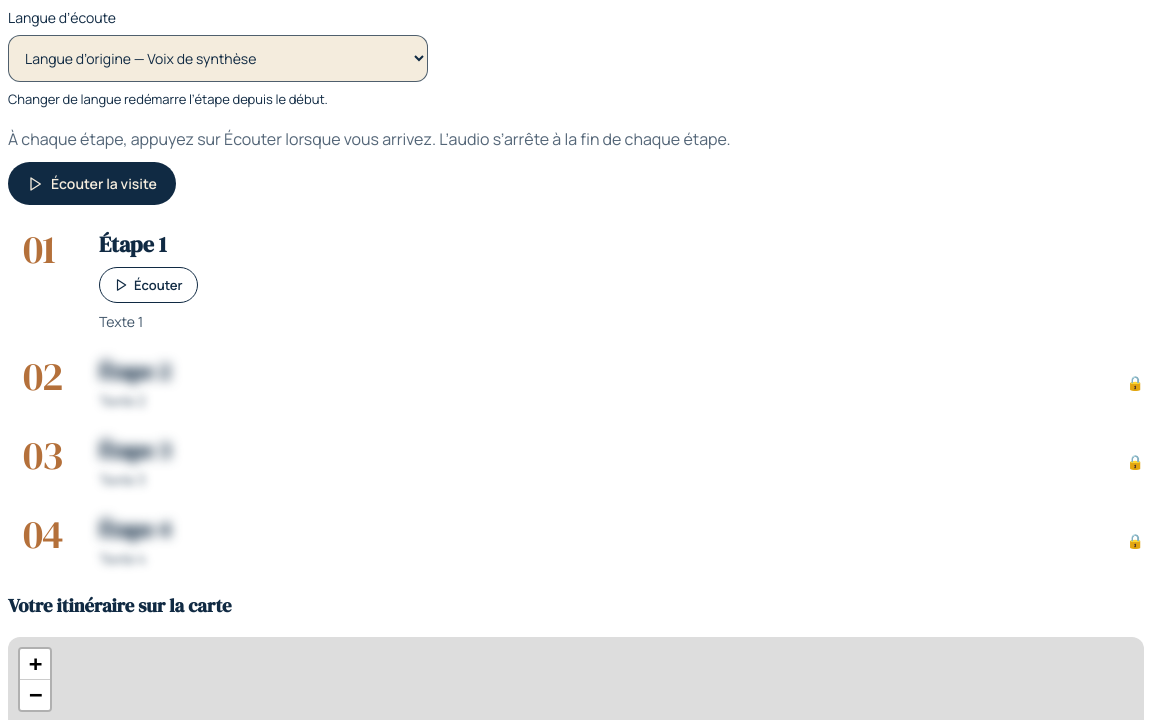
Test: fiche Visite — écouter une étape (LW-1) › achat qui aboutit après une écoute anonyme : la source est oubliée, l'étape ouverte redemande
Note: Anonyme : l'aperçu se joue avec les URLs de l'aperçu.
What coordinates should you click on to do the following:
click the button with test id "scene-listen-button-s1"
I would click on:
 (148, 285)
Its box is [99,267,198,303].
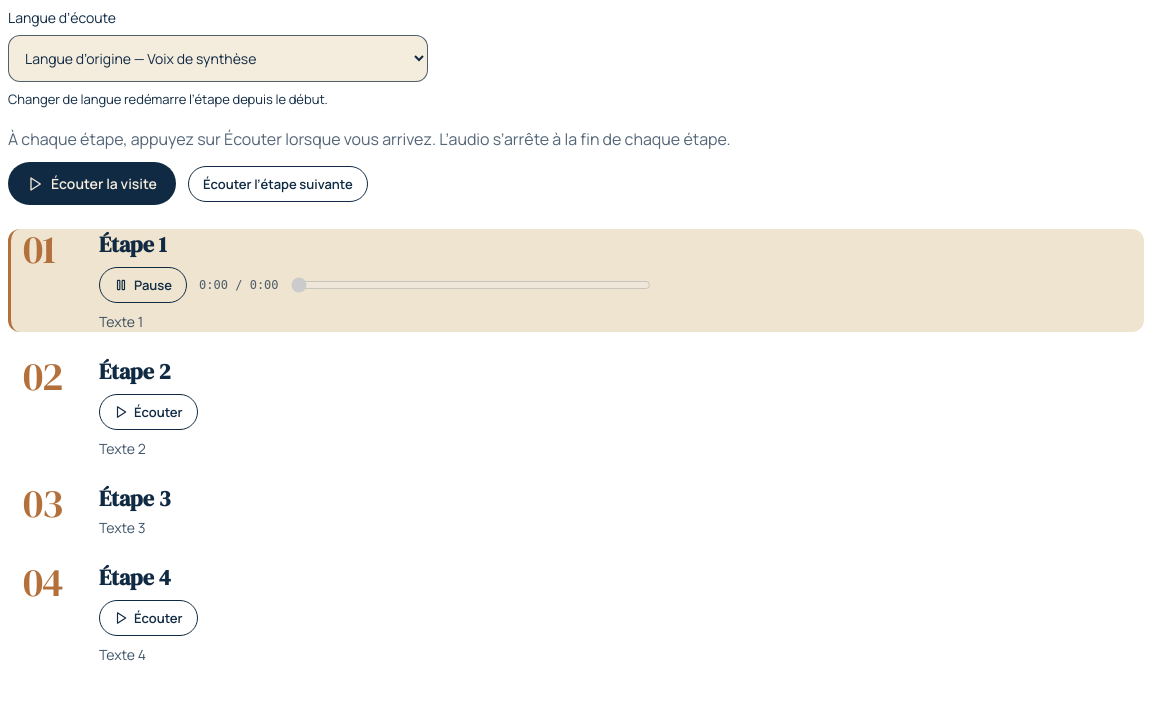
Expected: the button with test id "scene-listen-button-s4" is shown
Note: Le clic réutilise ce nouveau manifeste, jamais les URLs de l’anonyme.
What coordinates should you click on to do the following:
click the button with test id "scene-listen-button-s4"
I would click on:
 (148, 618)
Its box is [99,600,198,636].
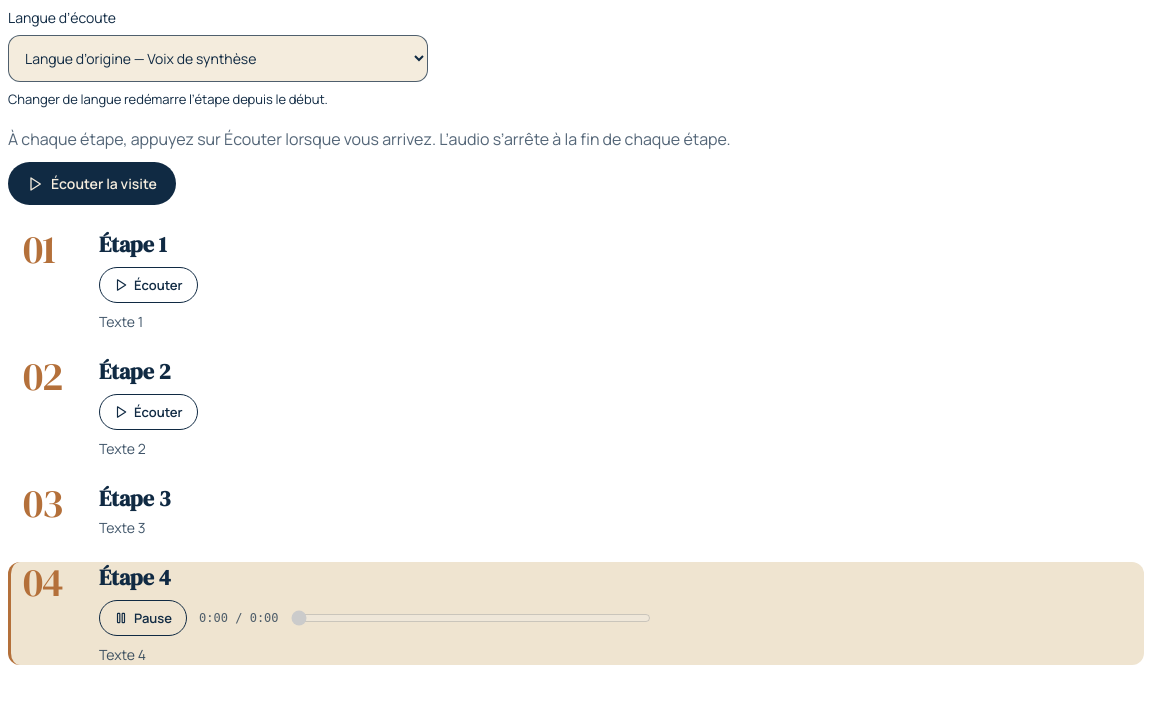
Expected: the button with test id "scene-listen-button-s4" reads "Pause", [99,600,187,636]
